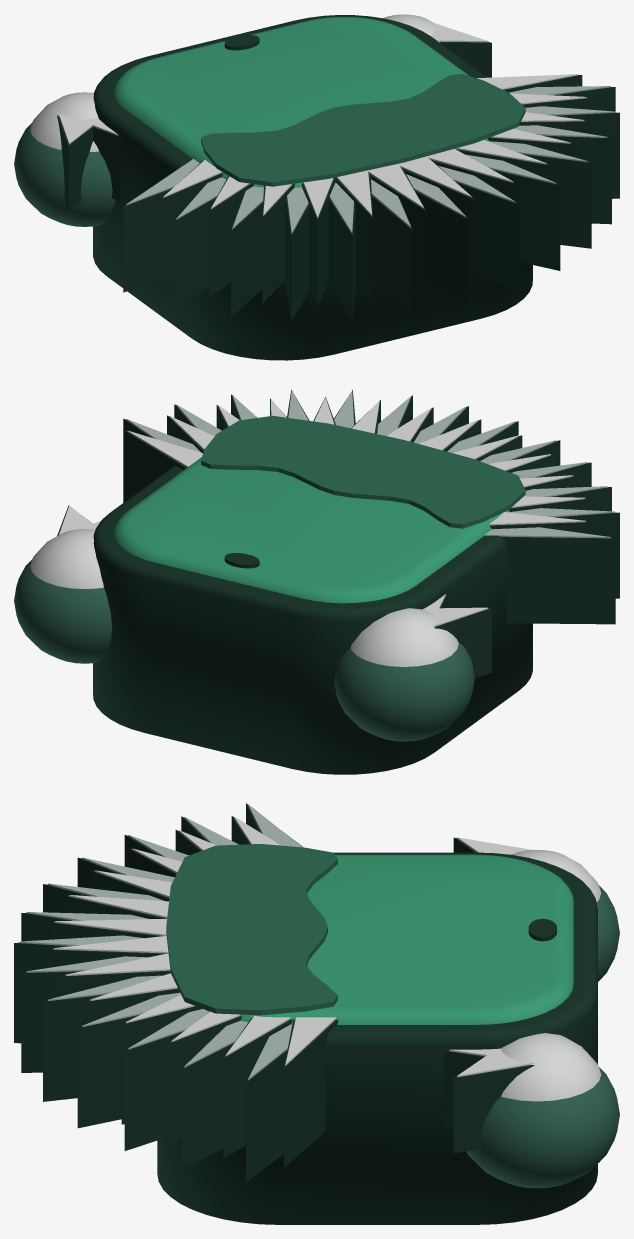
The model's file is body_ourico.fbx.
3 renders of one model, top to bottom at view 1: azimuth 30°, elevation 25°; view 2: azimuth 150°, elevation 25°; view 3: azimuth 270°, elevation 25°, orthographic. The views are drawn at different scales.
Visible parts, largest first — view 1: body_ourico_corpo, body_ourico_mao_esq, body_ourico_mao; view 2: body_ourico_corpo, body_ourico_mao_esq, body_ourico_mao; view 3: body_ourico_corpo, body_ourico_mao, body_ourico_mao_esq.
Part boxes in pixels (x1,y1,x2,y2): body_ourico_corpo: [93, 15, 619, 360]; body_ourico_mao_esq: [14, 92, 120, 226]; body_ourico_mao: [383, 14, 491, 77]; body_ourico_corpo: [93, 389, 619, 774]; body_ourico_mao_esq: [334, 594, 491, 741]; body_ourico_mao: [14, 505, 112, 663]; body_ourico_corpo: [14, 803, 597, 1224]; body_ourico_mao: [444, 1033, 619, 1188]; body_ourico_mao_esq: [453, 837, 619, 981].
Bounding box in the file's own units: 6.01 × 2.05 × 5.5.
Materials: 1 (1 with a texture image).
